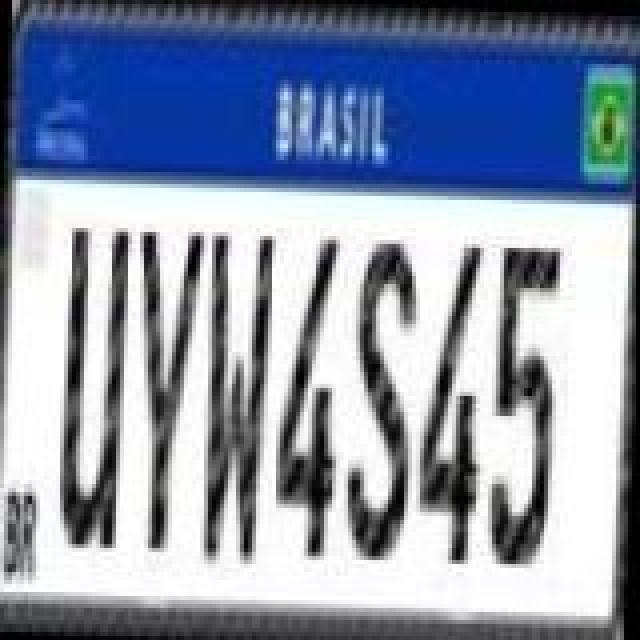4: (270, 230, 350, 558), (412, 232, 488, 556)
5: (484, 242, 560, 566)
S: (342, 228, 422, 556)
U: (54, 214, 134, 554)
W: (194, 230, 274, 570)
Y: (124, 222, 208, 550)
